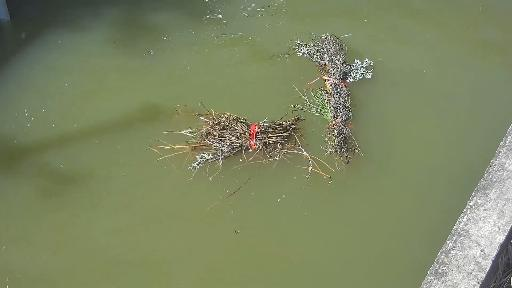twig: (285, 22, 372, 176), (163, 106, 312, 164)
